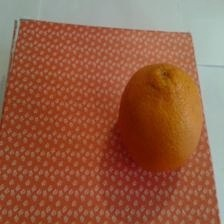orange: (21, 11, 210, 188)
